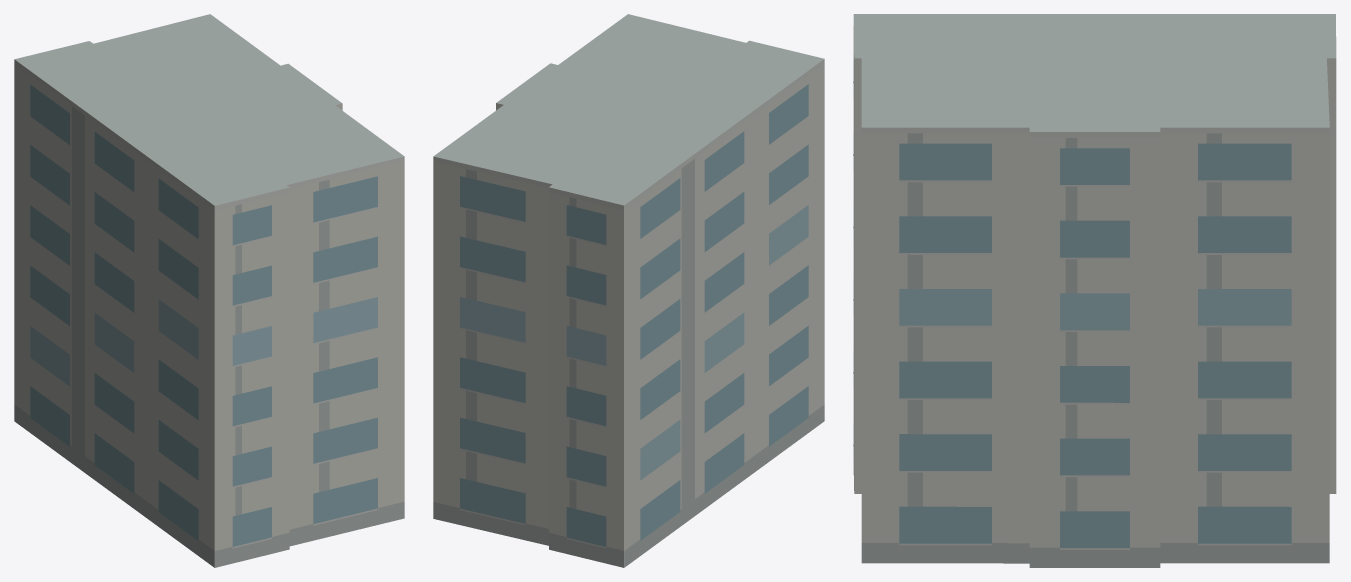
The model's file is survey-upis-32696354.glb.
3 renders of one model, left to right at view 1: azimuth 30°, elevation 25°; view 2: azimuth 150°, elevation 25°; view 3: azimuth 270°, elevation 25°, orthographic. The views are drawn at different scales.
Parts seen in each view (by area): view 1: survey-upis-32696354.tmp; view 2: survey-upis-32696354.tmp; view 3: survey-upis-32696354.tmp.
Boxes of the visible parts, <box> form: survey-upis-32696354.tmp: <box>14,14,404,567</box>; survey-upis-32696354.tmp: <box>433,14,824,567</box>; survey-upis-32696354.tmp: <box>853,14,1336,567</box>.
Size of the model in its own units: 10.6 by 18.2 by 18.29.
